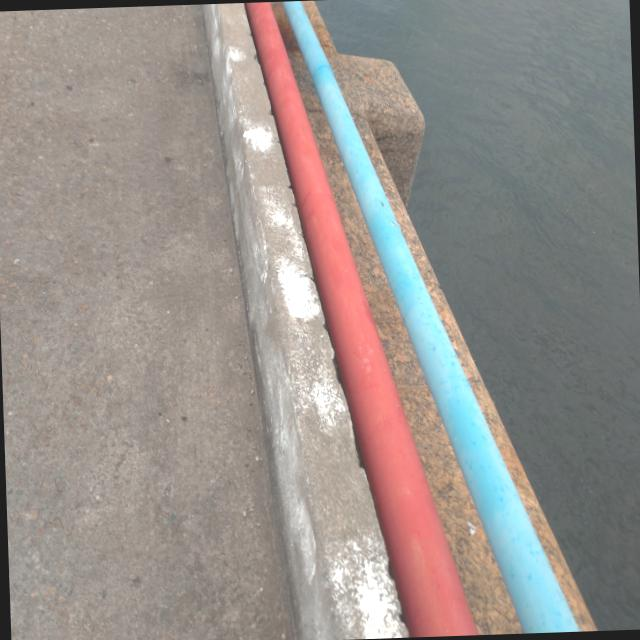gas: (288, 14, 579, 630), (248, 14, 477, 634)
